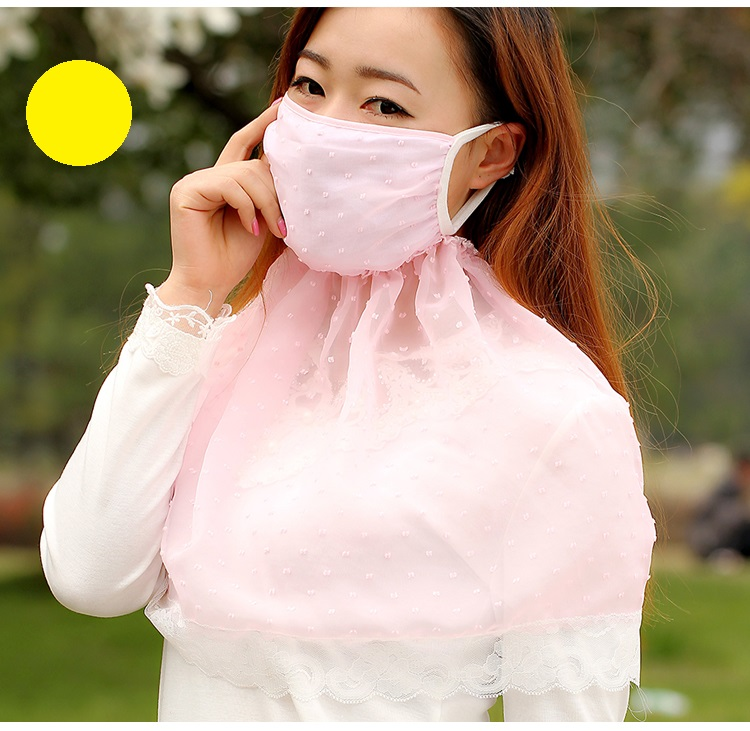face_mask: (264, 0, 476, 261)
